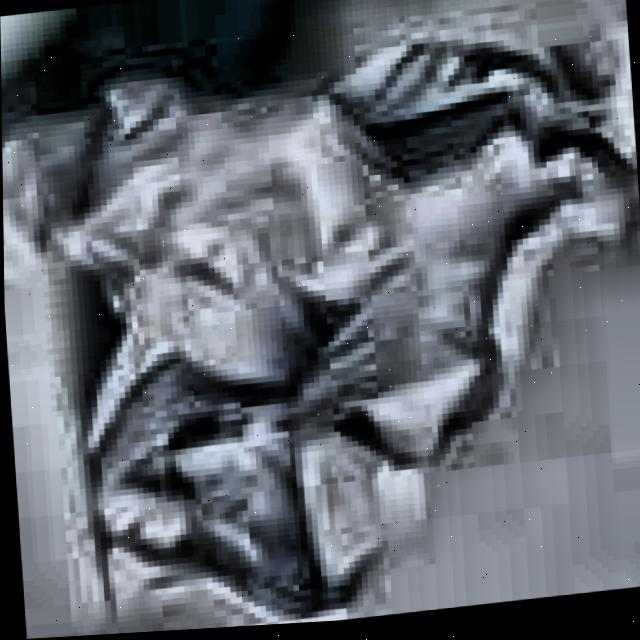paper: (1, 36, 635, 630)
